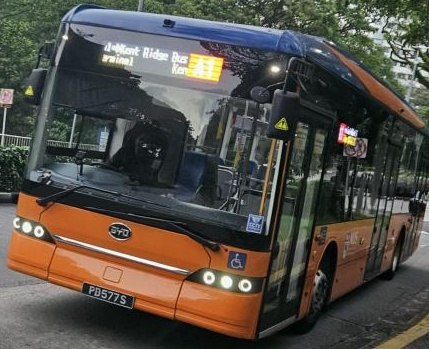bus: (184, 51, 223, 81)
